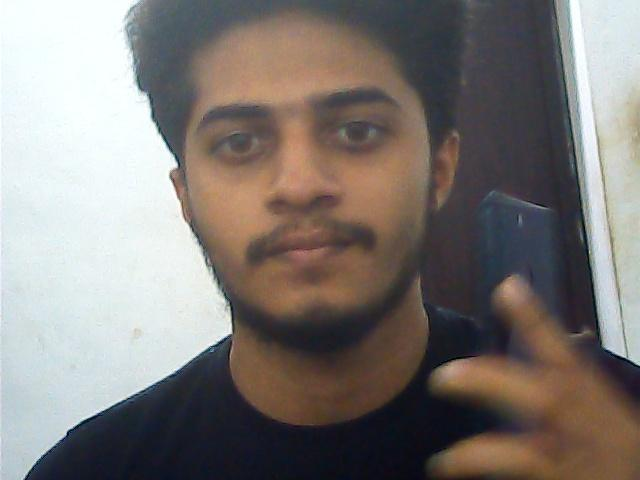PhoneUse: (472, 188, 580, 444)
SafeDriving: (314, 98, 403, 158), (200, 113, 284, 166)
